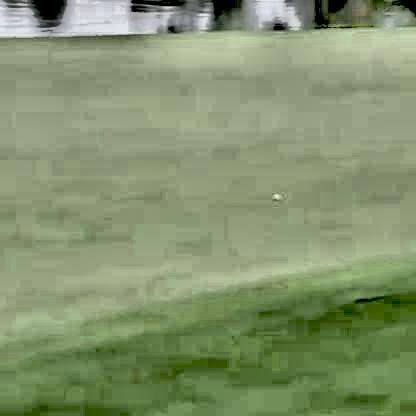golfball: (270, 191, 277, 198)
